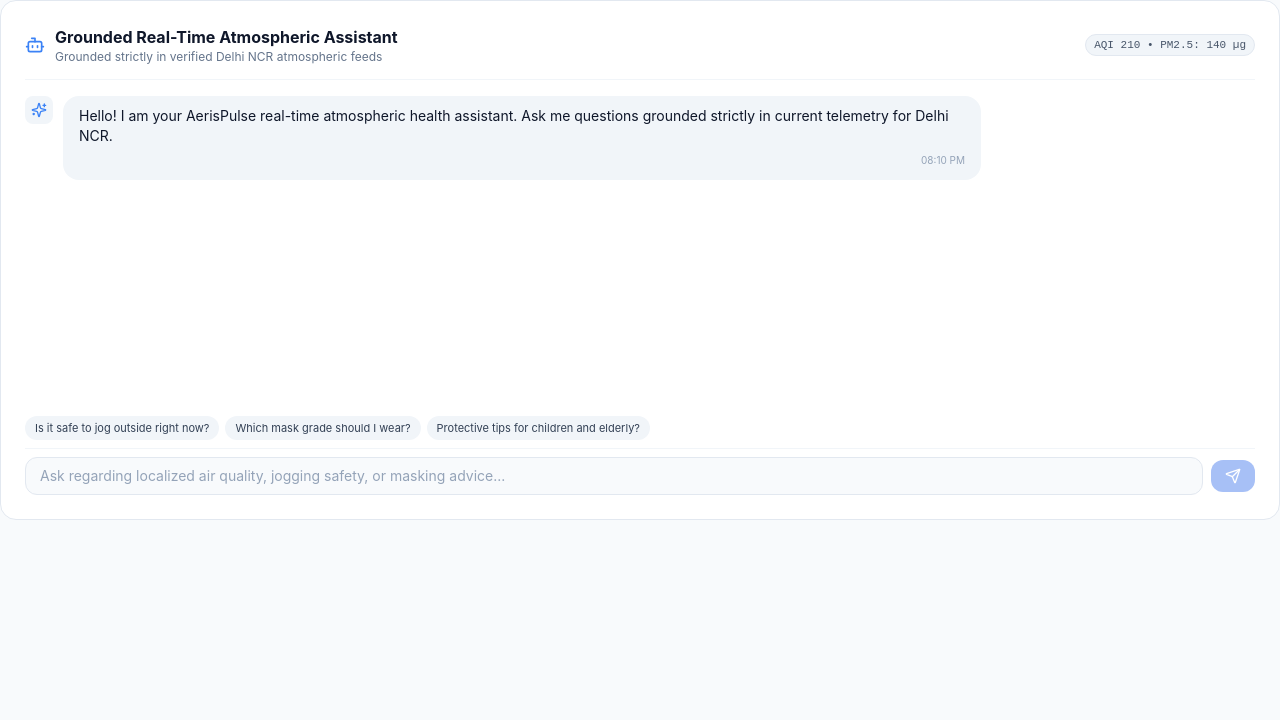
Scenario: StreamingChat handleSend Integration › handles chat stream network failure gracefully
Replace the text in the field with "Test failure": (614, 476) [25, 457, 1203, 495]
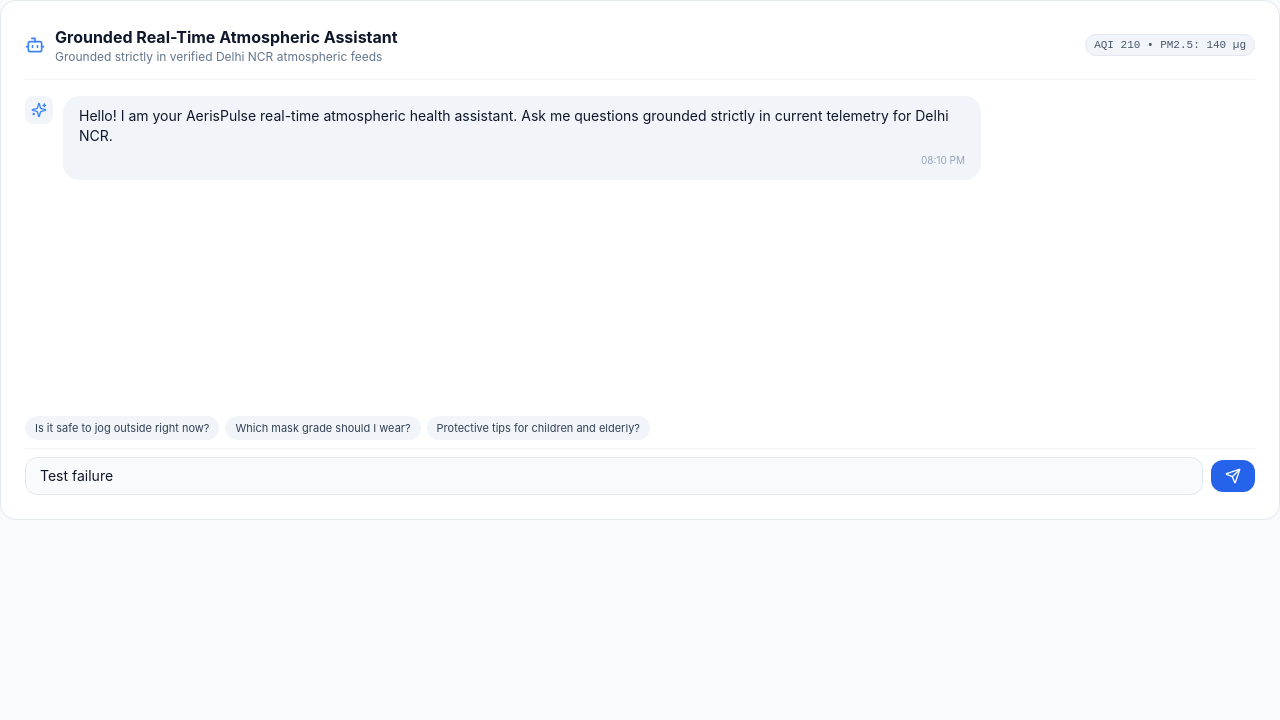
Click the button named "Send": (1233, 476) [1211, 460, 1255, 492]
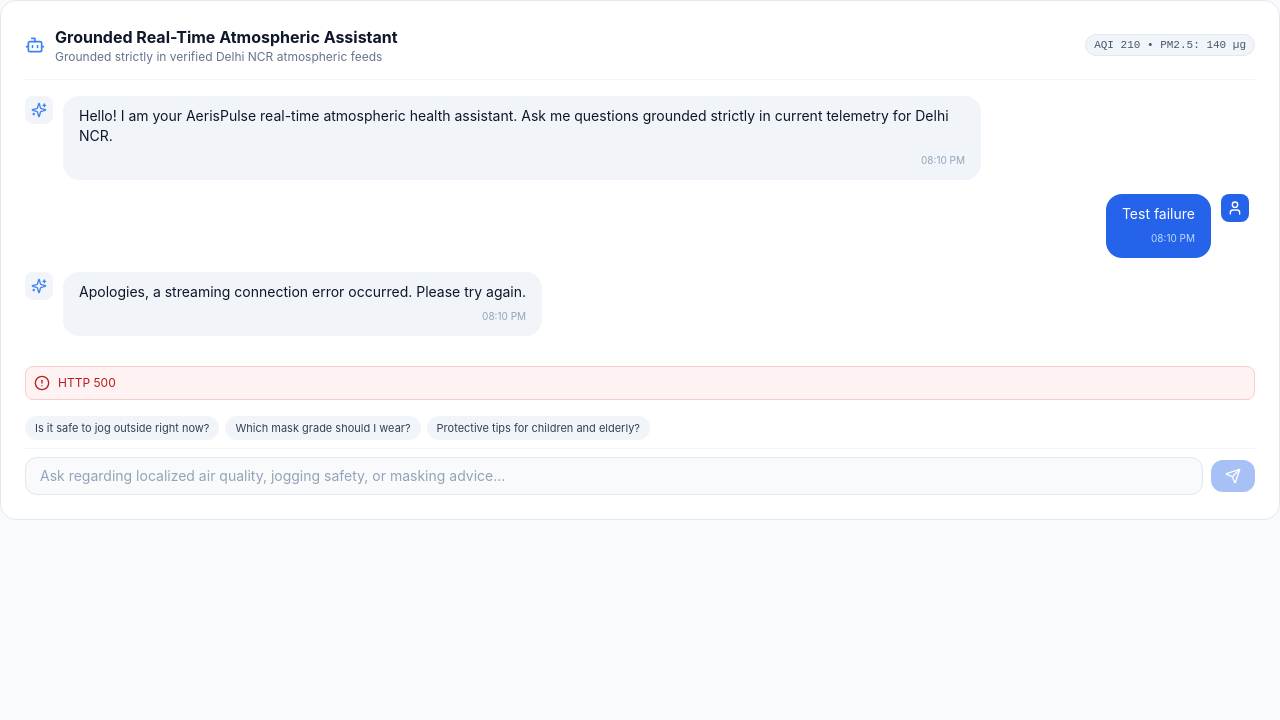
Check: the text "Apologies, a streaming connection error occurred" is shown, box [79, 283, 526, 300]
